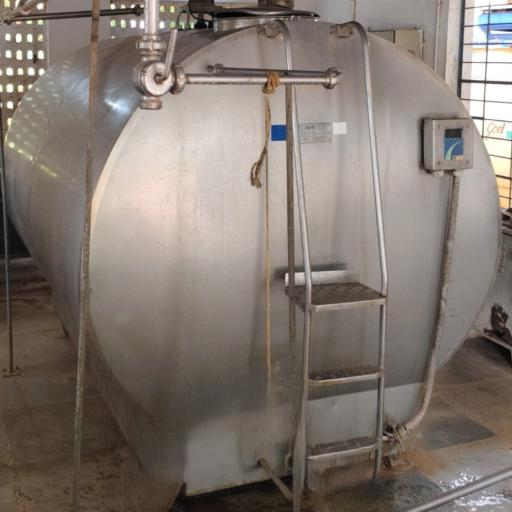silo: (0, 6, 506, 490)
